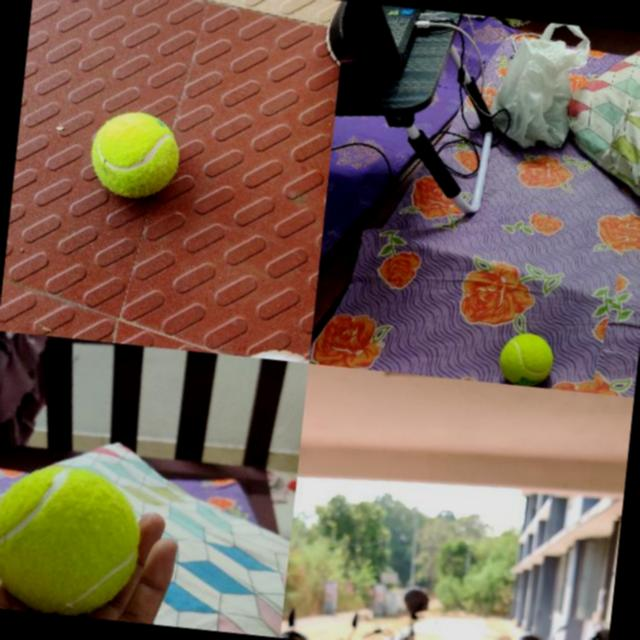tennis-ball: (0, 459, 146, 621), (87, 108, 181, 202), (496, 330, 554, 387)
